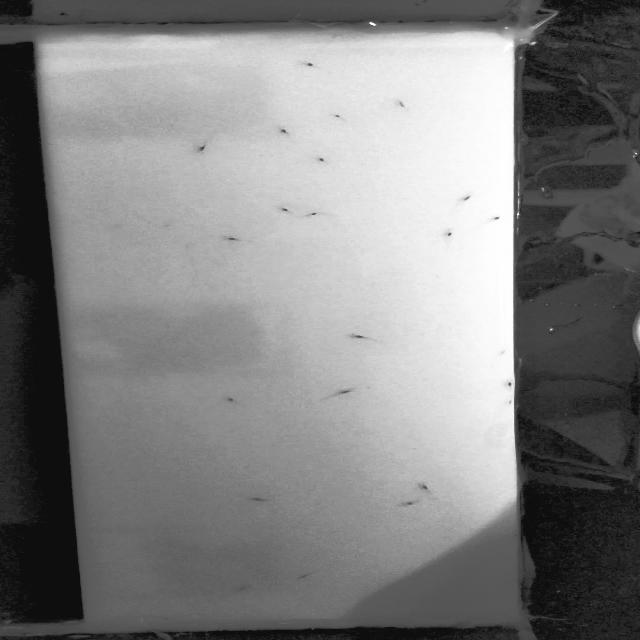shrimp: (333, 386, 358, 401), (391, 97, 413, 113), (192, 142, 215, 156), (325, 111, 351, 123), (221, 395, 245, 408), (440, 227, 460, 242), (347, 332, 370, 344), (457, 193, 478, 206), (486, 212, 505, 226), (160, 614, 184, 625), (302, 59, 323, 71), (314, 155, 334, 167), (496, 377, 516, 389), (417, 479, 433, 494), (248, 495, 272, 505), (304, 210, 325, 221), (222, 233, 243, 244), (271, 205, 293, 215), (400, 500, 420, 510), (275, 125, 292, 136), (299, 570, 314, 582), (233, 585, 254, 593)
